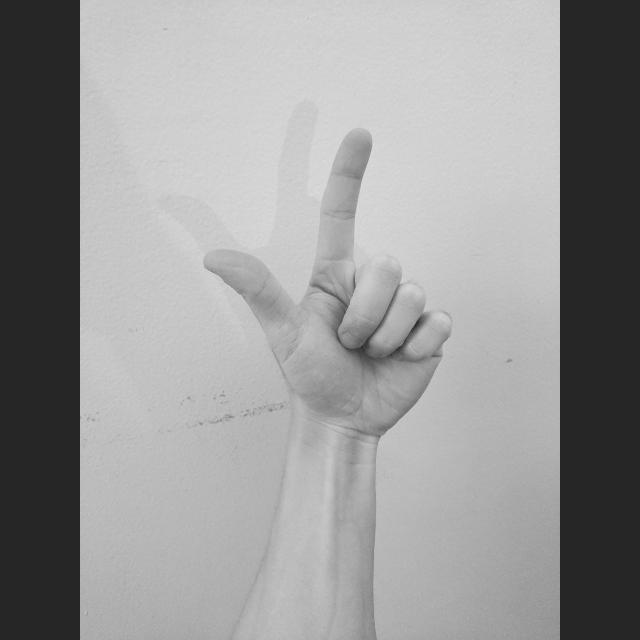L: (194, 121, 458, 443)
